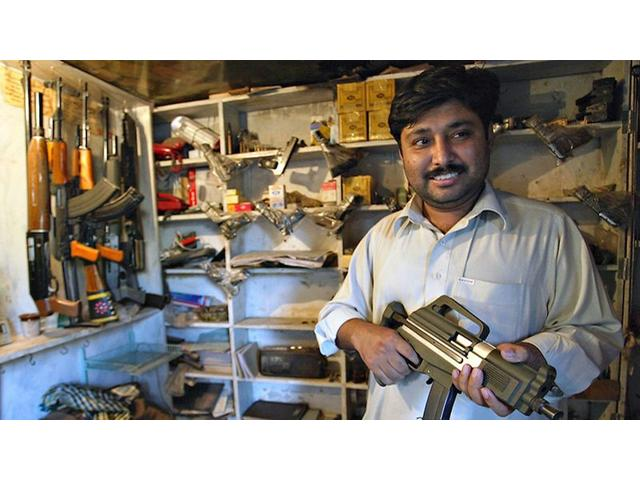pistol: (567, 180, 631, 227), (524, 116, 592, 160), (308, 193, 363, 235), (198, 141, 249, 186), (196, 199, 251, 240), (253, 200, 305, 240), (255, 136, 298, 179)
